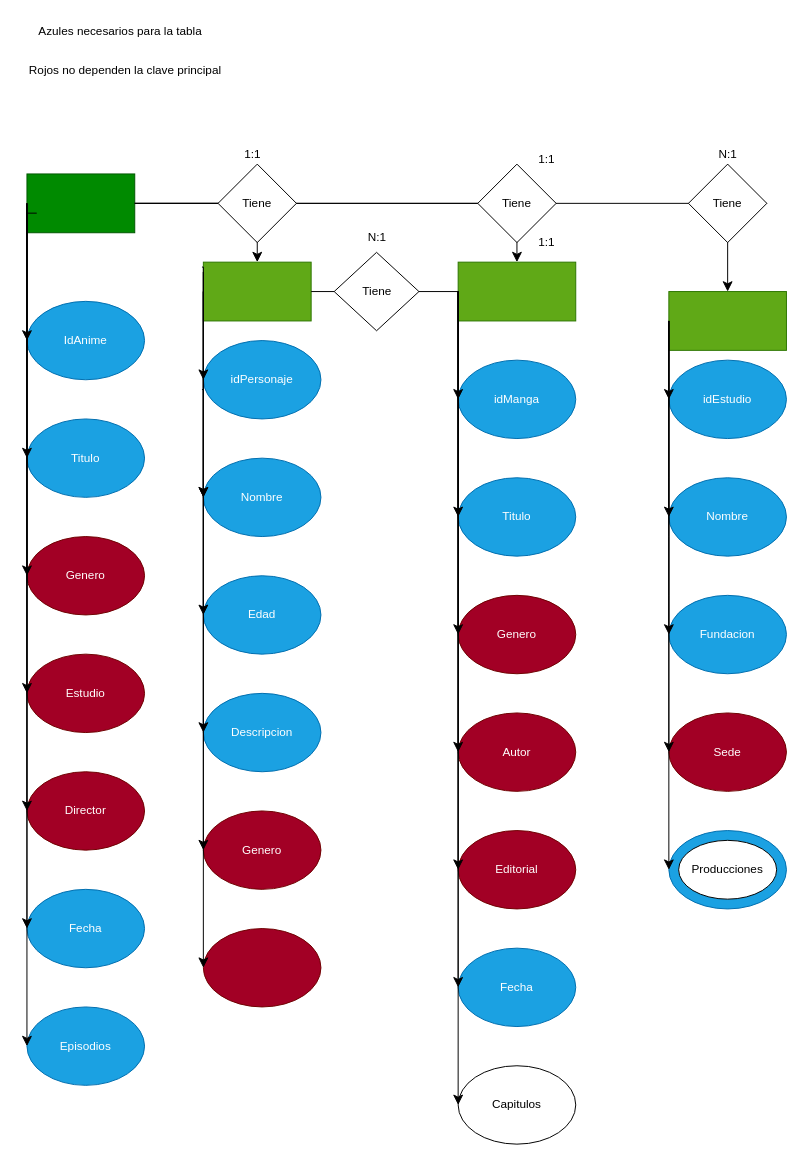
Image size: 804x1161. Some labels were removed from this diagram. The shapes that lost their labels are listed below. From the top down, each one's box as (x1, y1, x2, y2) in pixels, then its label:
(26, 173, 135, 233): Anime
(202, 261, 311, 321): Personaje
(457, 261, 576, 321): Manga
(668, 291, 786, 350): Estudio de animacion
(202, 928, 321, 1007): Seiyuu
